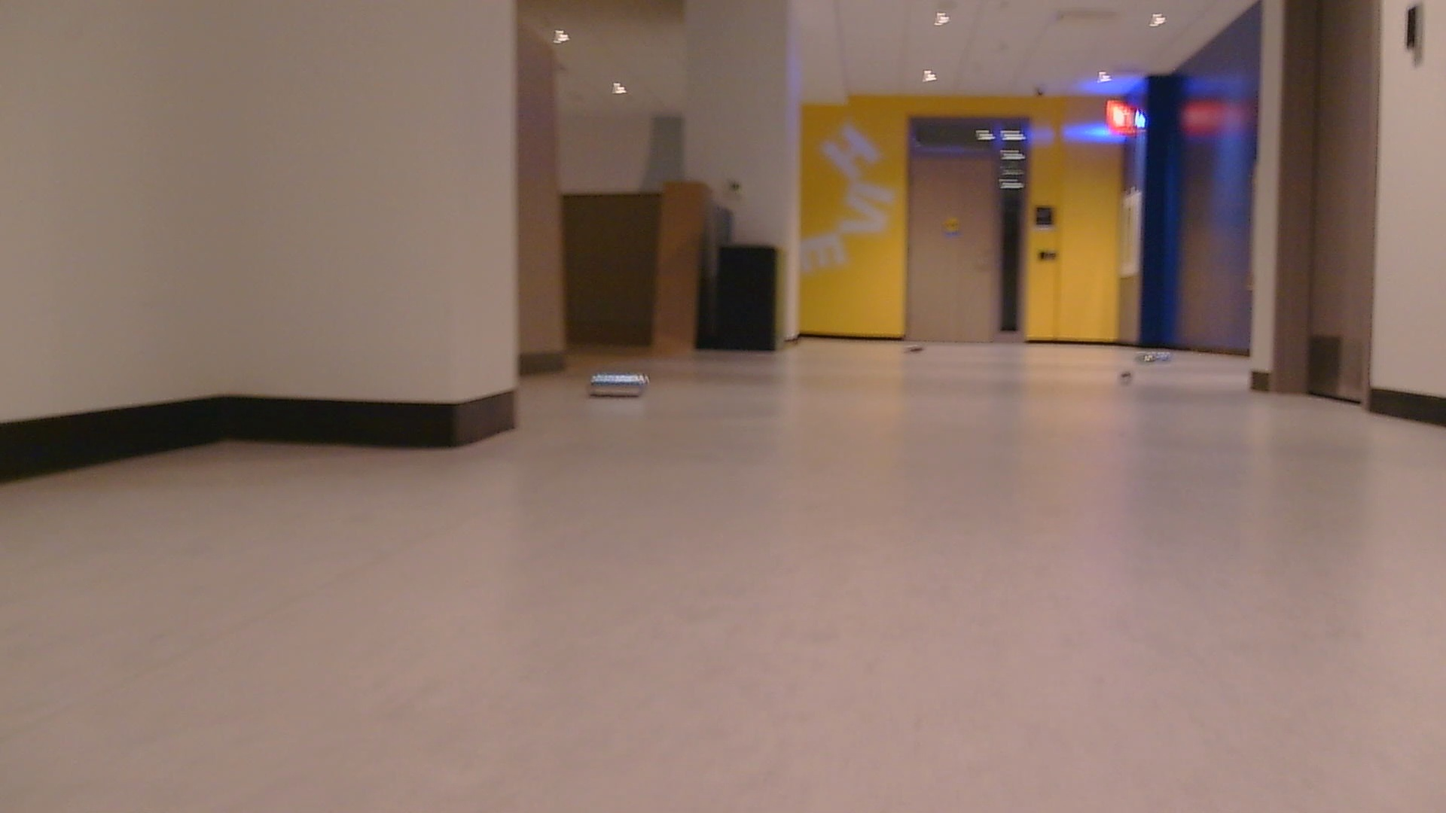carton: (583, 366, 660, 402), (1134, 340, 1167, 362), (902, 342, 933, 358), (1109, 369, 1131, 386)
